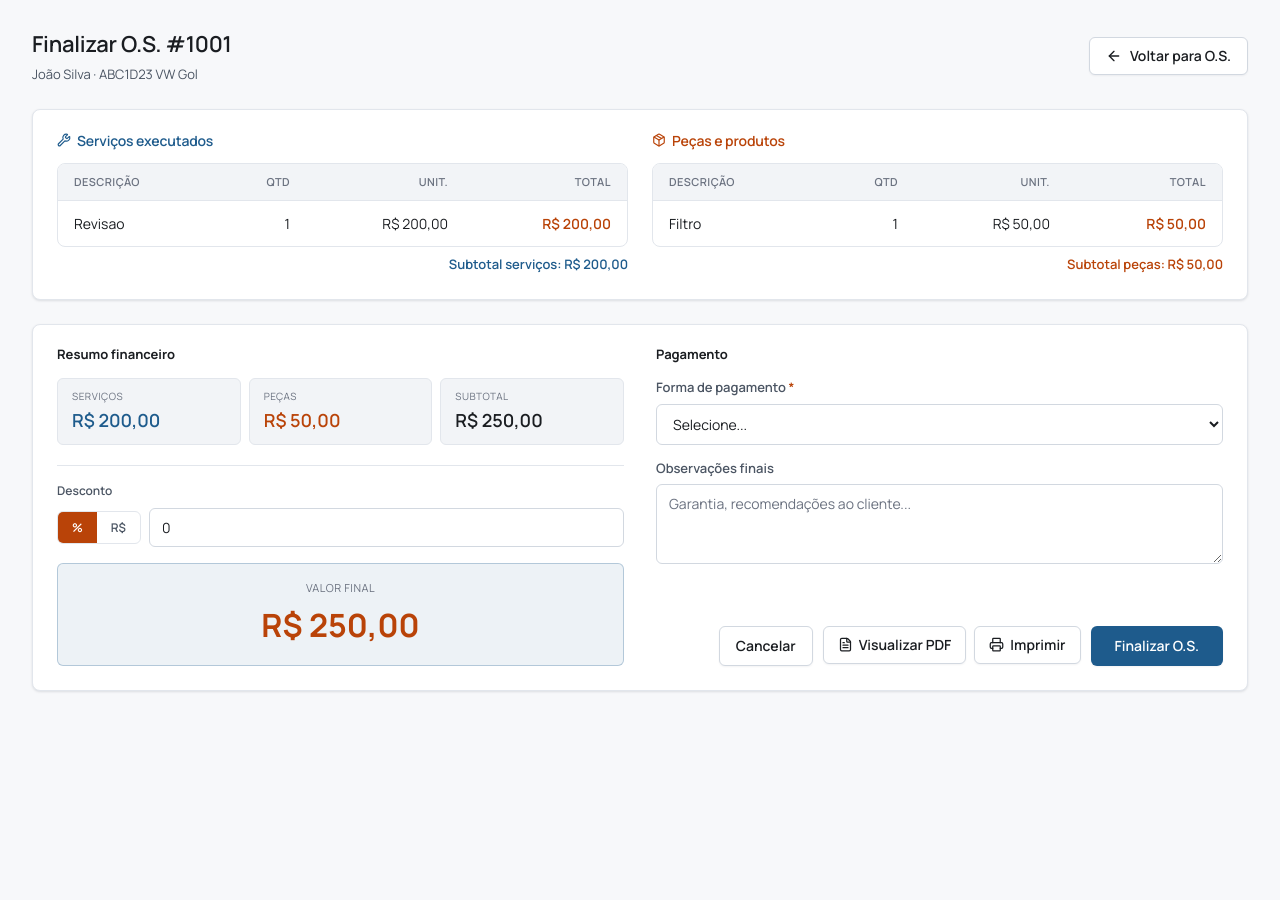
Scenario: Encerrar O.S. — chamada do RPC finalizarOrdemServico › erro do RPC aparece em role=alert e a O.S. nao e dada como concluida
The width and height of the screenshot is (1280, 900).
Select "Pix" in the dropdown at (940, 424), box [656,404,1223,444]
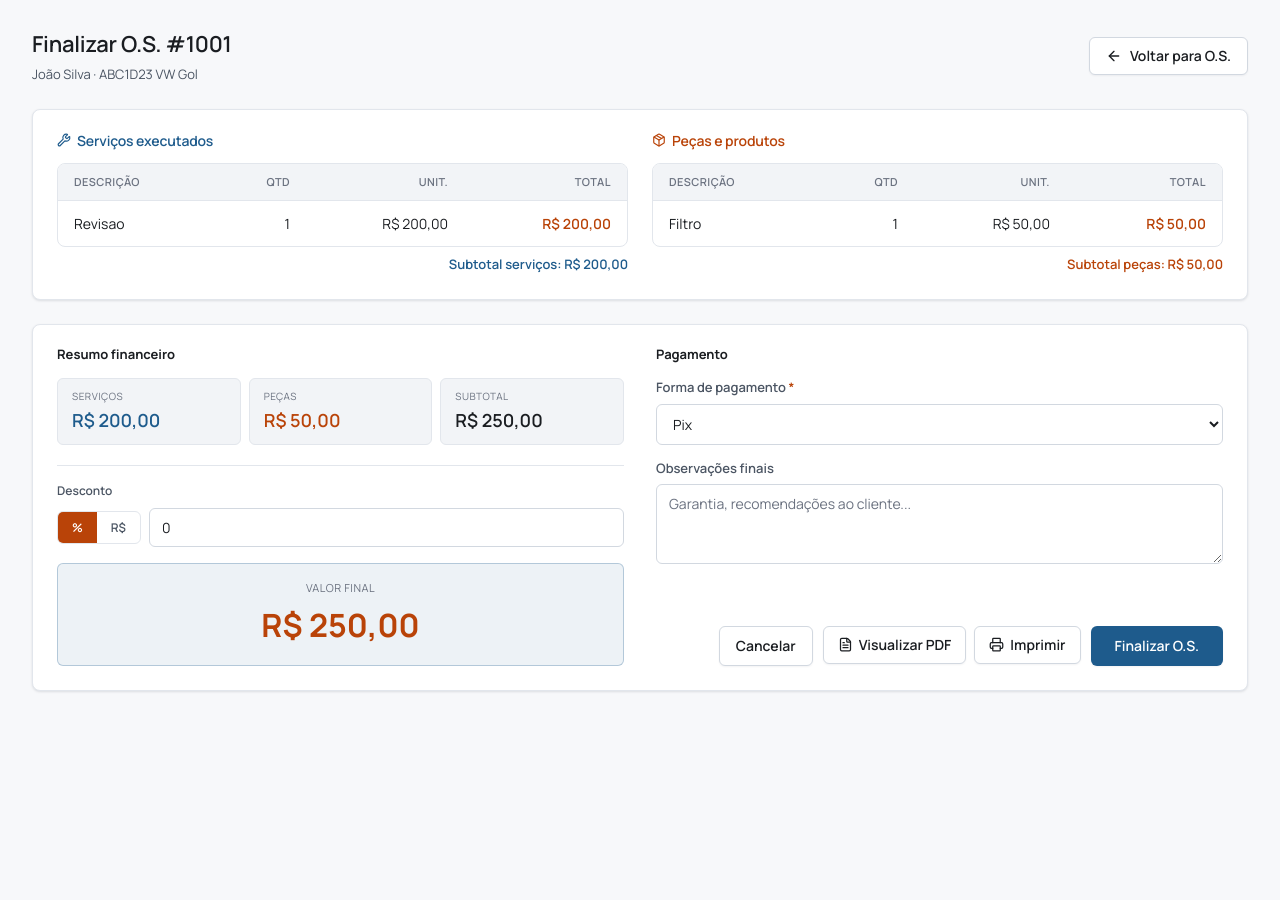
Click the button "Finalizar O.S." at (1157, 646), box [1090,626,1223,666]
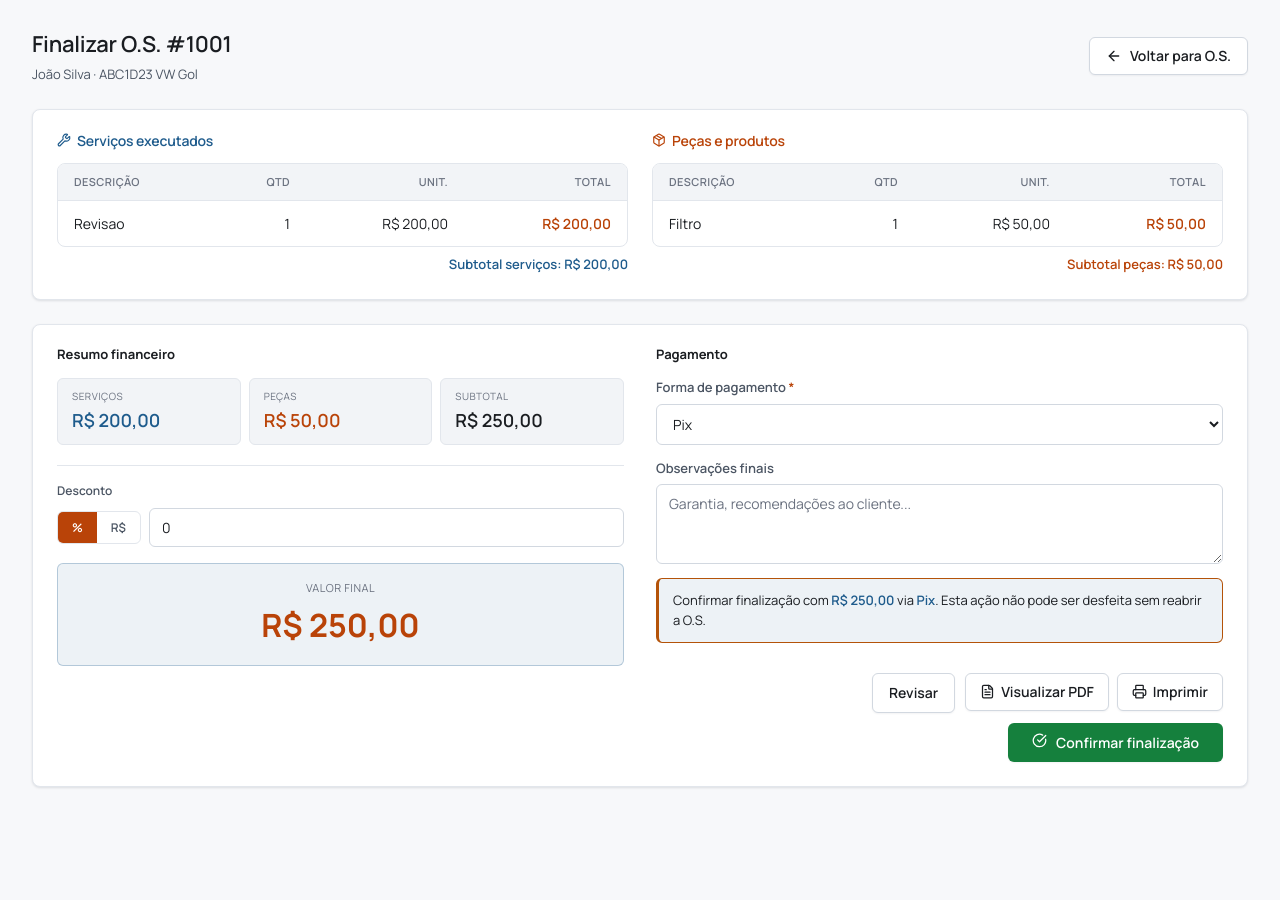
Click the button "Confirmar finalização" at (1116, 742), box [1008,723,1223,762]
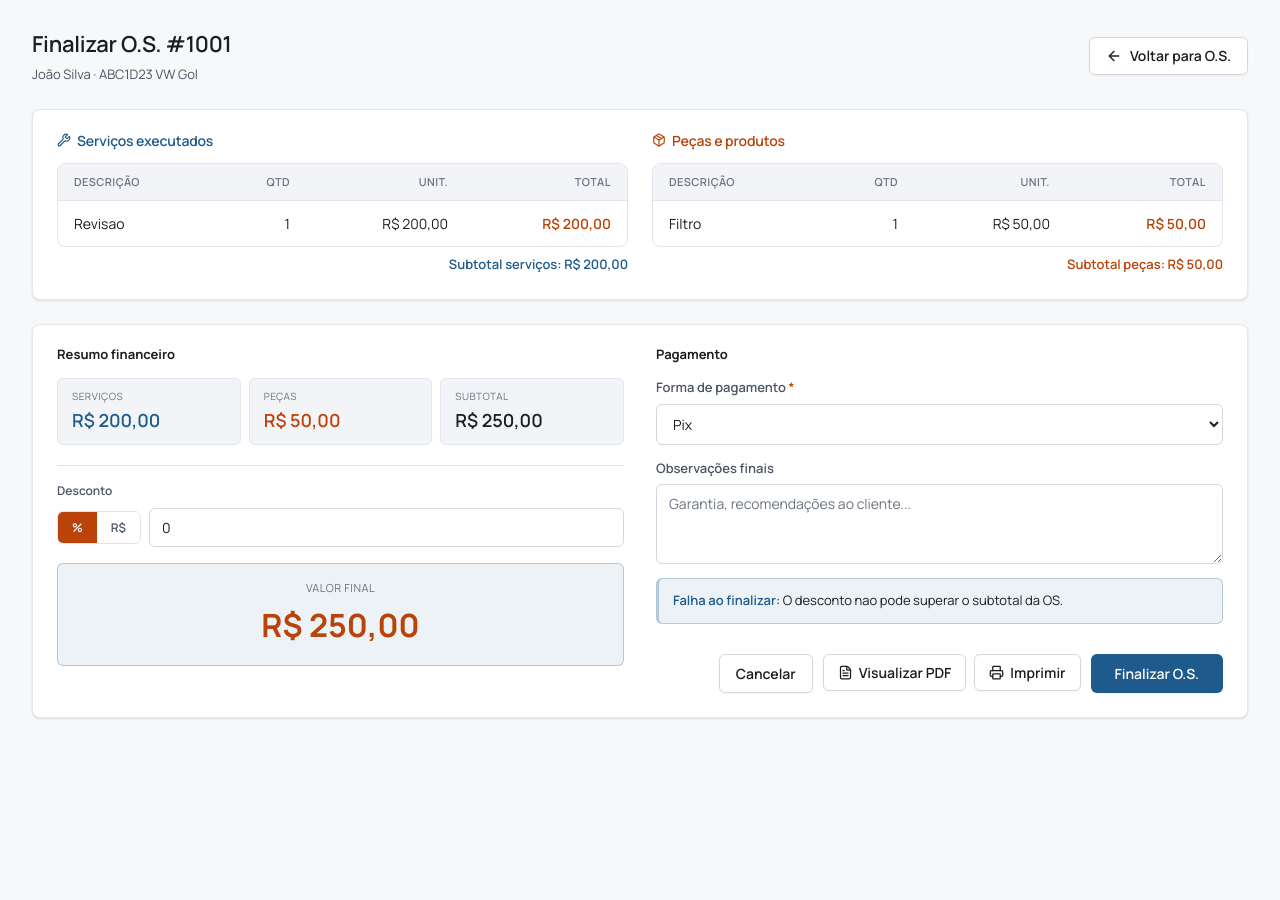
Expected: the message shows "Falha ao finalizar", [673,591,780,609]
Expected: the message shows "desconto nao pode superar o subtotal", [783,591,1063,609]
Expected: the button "Finalizar O.S." is shown, [1090,654,1223,693]
